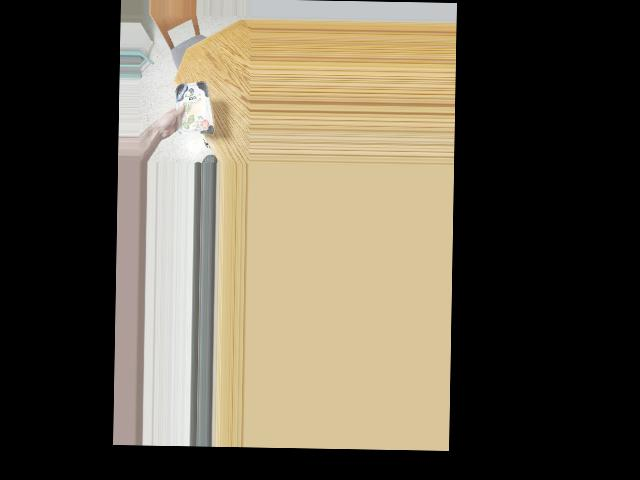cheese: (169, 81, 214, 135)
